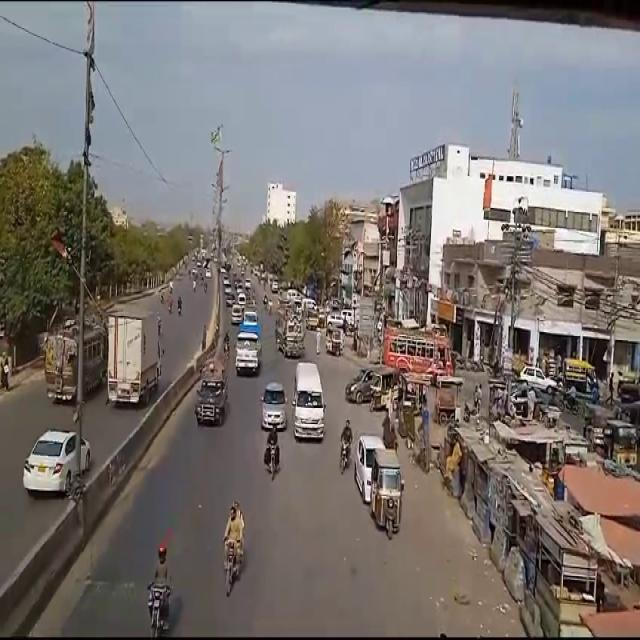car: (23, 427, 87, 498), (352, 432, 386, 503), (346, 366, 400, 409), (260, 382, 288, 431)
truck: (194, 350, 232, 429)
